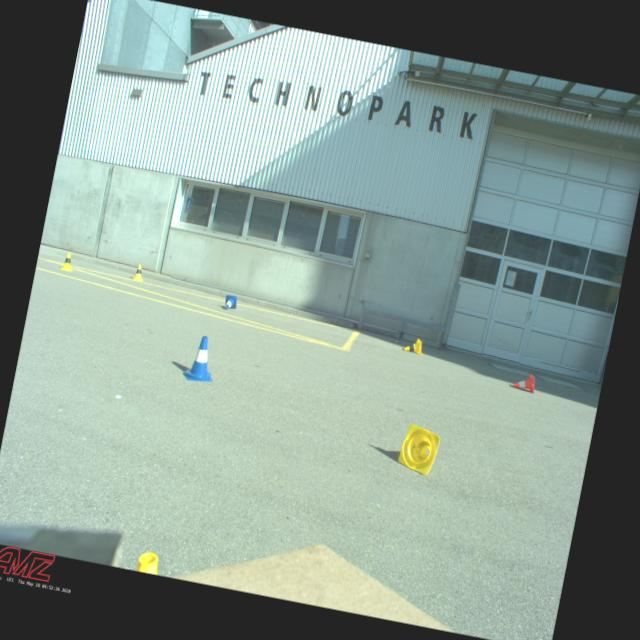blue_cone: (182, 334, 221, 384), (224, 294, 238, 312)
orange_cone: (513, 372, 538, 394)
yellow_cone: (396, 423, 442, 477), (404, 336, 425, 355), (59, 252, 77, 272), (132, 264, 146, 282)
